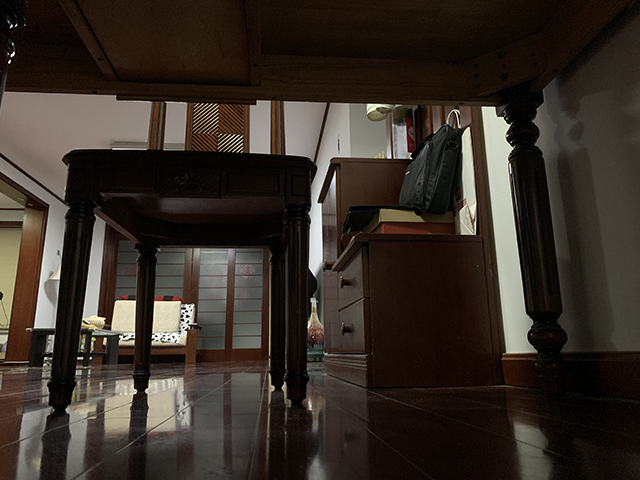cabinet: (327, 150, 505, 393)
sofa: (93, 292, 203, 365)
stool: (46, 93, 318, 415)
table: (22, 324, 124, 367)
